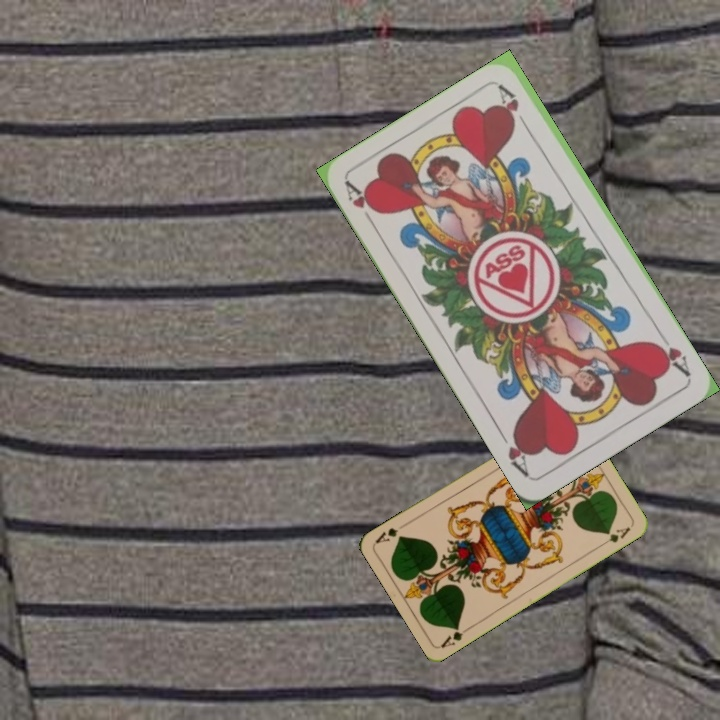GA: (437, 622, 473, 650)
HA: (649, 328, 693, 380), (341, 178, 383, 230)
